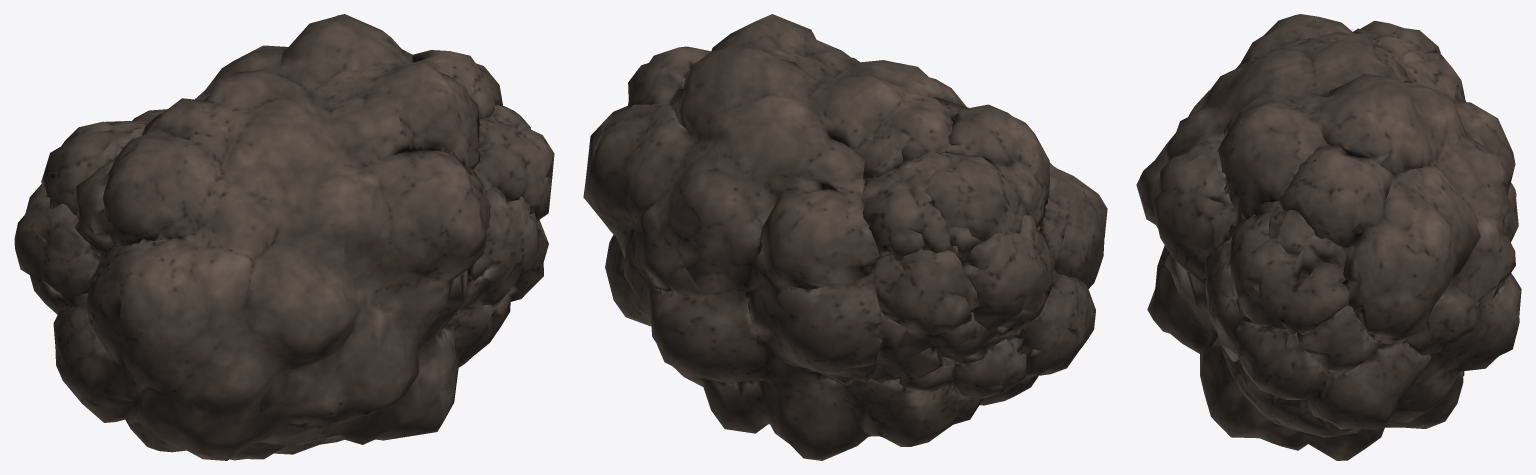
File: small_a.glb
3 views of the same model, side by side, from view 1: azimuth 30°, elevation 25°; view 2: azimuth 150°, elevation 25°; view 3: azimuth 270°, elevation 25° (orthographic). The views are drawn at different scales.
Visible parts, largest first — view 1: AsteroidSmallA; view 2: AsteroidSmallA; view 3: AsteroidSmallA.
Part boxes in pixels (x1,y1,x2,y2): AsteroidSmallA: [14, 14, 554, 460]; AsteroidSmallA: [583, 14, 1107, 460]; AsteroidSmallA: [1136, 14, 1521, 460].
Bounding box in the file's own units: 1.83 × 1.47 × 1.33.
1 material, 1 textured.
